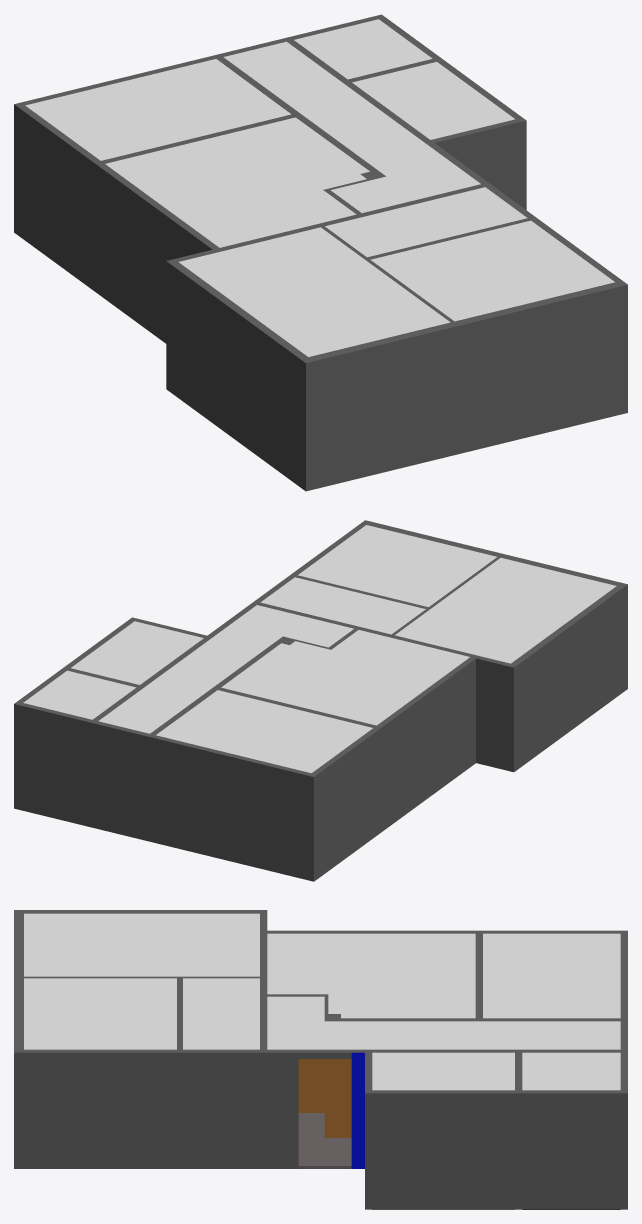
Rendered from sassssss 1.fbx.
The picture shows the model from 3 angles, top to bottom: view 1: azimuth 30°, elevation 25°; view 2: azimuth 150°, elevation 25°; view 3: azimuth 270°, elevation 25°; orthographic projection. The views are drawn at different scales.
Visible parts, largest first — view 1: Plane, Plane.002, Plane.009, Plane.001, Plane.008, Plane.003, Plane.007, Plane.005, Plane.006, Plane.004; view 2: Plane, Plane.002, Plane.009, Plane.001, Plane.008, Plane.003, Plane.007, Plane.005, Plane.006, Plane.004; view 3: Plane, Plane.002, Plane.009, Plane.001, Plane.008, Plane.003, Plane.005, Plane.007, Plane.006, Plane.013, Plane.004, Plane.014.
Part boxes in pixels (x1,y1,x2,y2): Plane: (14,14,627,491); Plane.002: (105,117,369,247); Plane.009: (179,227,450,356); Plane.001: (25,59,291,160); Plane.008: (370,220,614,321); Plane.003: (223,41,480,199); Plane.007: (325,187,527,257); Plane.005: (352,62,514,139); Plane.006: (294,19,432,79); Plane.004: (330,176,417,212); Plane: (14,520,627,881); Plane.002: (221,630,469,725); Plane.009: (395,558,616,663); Plane.001: (156,690,372,773); Plane.008: (298,525,496,607); Plane.003: (98,605,308,733); Plane.007: (260,577,425,634); Plane.005: (71,621,203,684); Plane.006: (23,670,136,719); Plane.004: (283,617,353,647); Plane: (14,910,627,1209); Plane.002: (267,933,475,1018); Plane.009: (24,913,259,976); Plane.001: (483,933,620,1018); Plane.008: (24,978,176,1049); Plane.003: (267,1021,620,1049); Plane.005: (372,1052,514,1090); Plane.007: (183,978,259,1049); Plane.006: (522,1052,620,1090); Plane.013: (298,1138,351,1168); Plane.004: (267,996,324,1021); Plane.014: (298,1113,324,1137).
Bounding box in the file's own units: 676 × 206 × 956.
